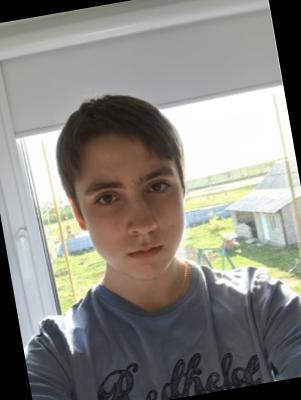without_mask: (76, 158, 197, 290)
